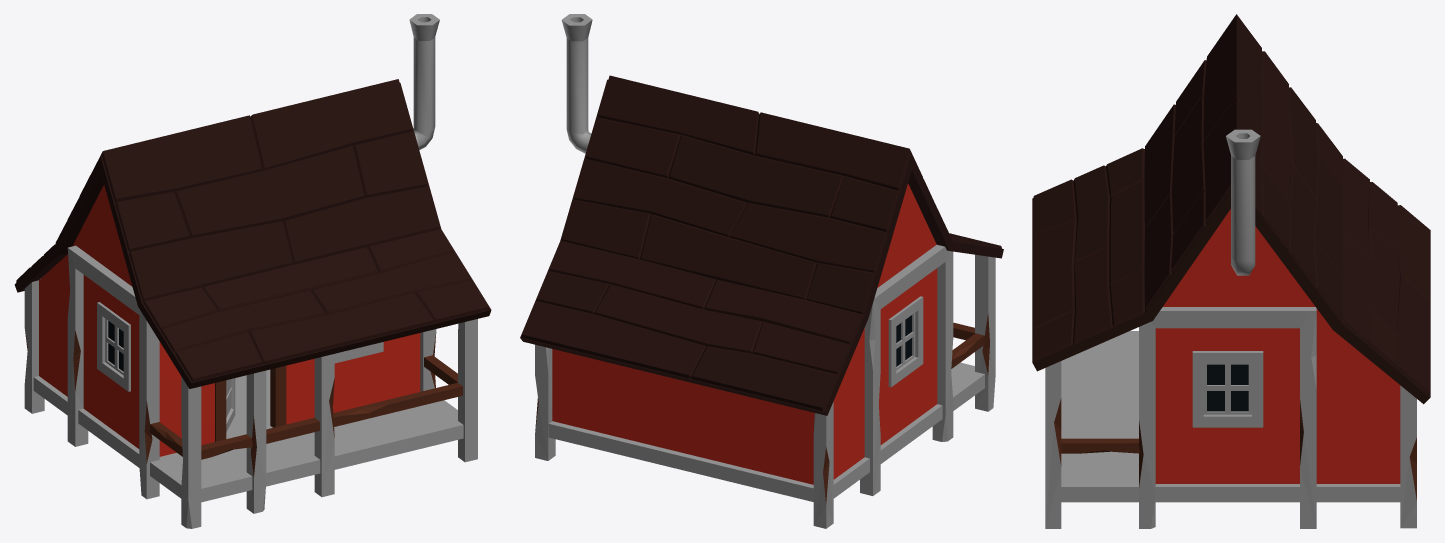
The model's file is House_5.fbx.
3 renders of one model, left to right at view 1: azimuth 30°, elevation 25°; view 2: azimuth 150°, elevation 25°; view 3: azimuth 270°, elevation 25°, orthographic. The views are drawn at different scales.
Parts seen in each view (by area): view 1: House_5; view 2: House_5; view 3: House_5.
Part boxes in pixels (x1,y1,x2,y2): House_5: (14, 14, 491, 528); House_5: (520, 14, 1003, 528); House_5: (1032, 14, 1430, 528).
Size of the model in its own units: 178 by 185 by 162.
